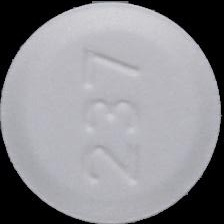31722-237: (0, 0, 224, 224)
